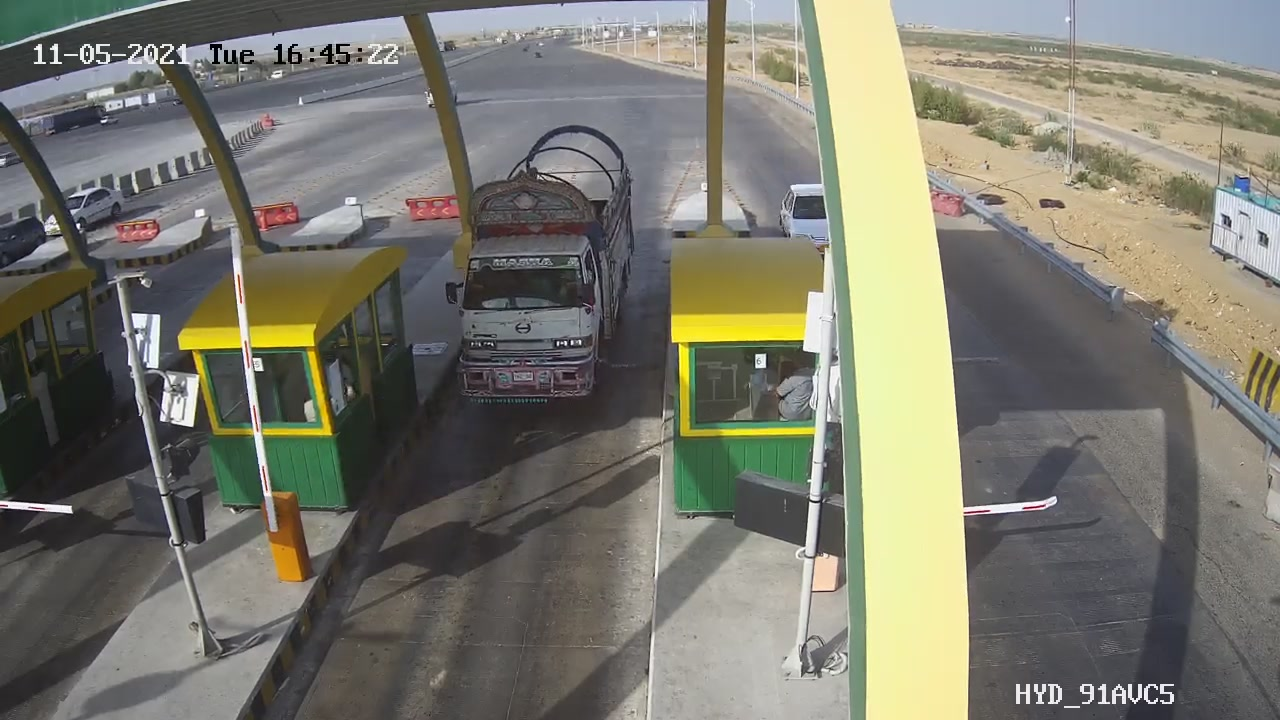F5: (429, 110, 658, 424)
